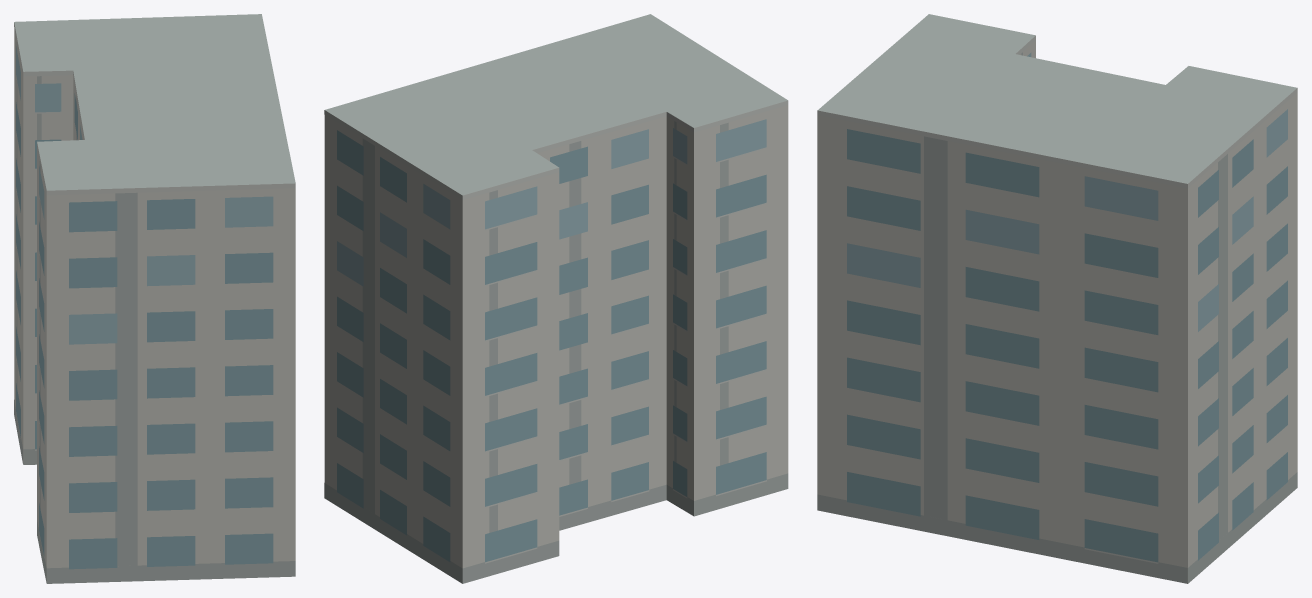
File: survey-upis-33014093.glb
3 renders of one model, left to right at view 1: azimuth 30°, elevation 25°; view 2: azimuth 150°, elevation 25°; view 3: azimuth 270°, elevation 25°, orthographic. The views are drawn at different scales.
Visible parts, largest first — view 1: survey-upis-33014093.tmp; view 2: survey-upis-33014093.tmp; view 3: survey-upis-33014093.tmp.
Part boxes in pixels (box(x1,y1,x2,y2)): survey-upis-33014093.tmp: box(14, 14, 295, 583); survey-upis-33014093.tmp: box(324, 14, 788, 583); survey-upis-33014093.tmp: box(817, 14, 1297, 583).
Bounding box in the file's own units: 18.51 × 20.3 × 22.09.
